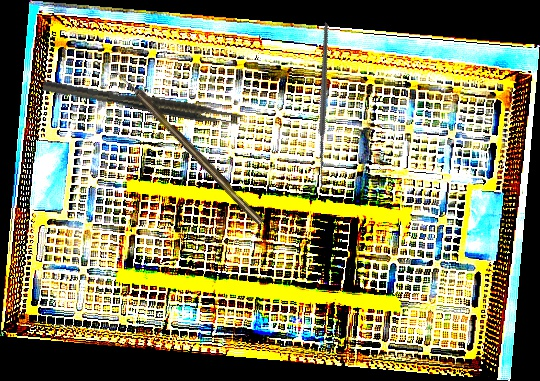Hook Surgical: (249, 21, 405, 194), (113, 65, 265, 228)
Tissue Forceps: (42, 74, 241, 129)
